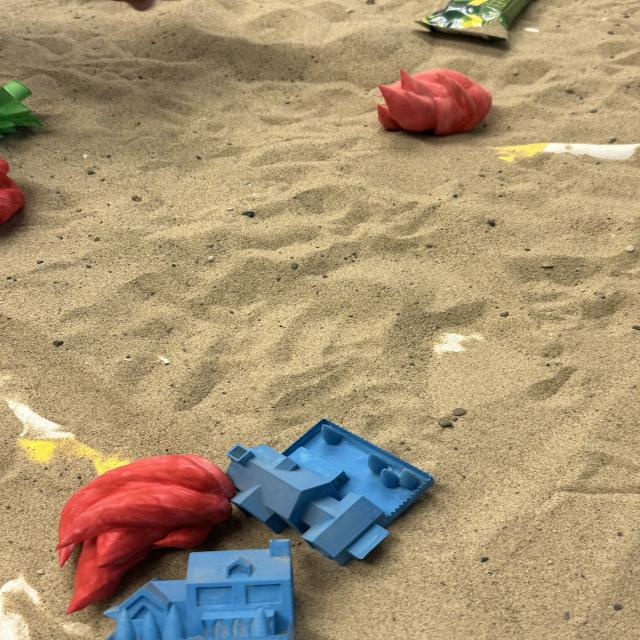fire: (54, 452, 237, 615), (374, 66, 493, 136), (0, 160, 25, 232)
house: (223, 416, 436, 566), (106, 536, 297, 640)
tree: (0, 77, 44, 139)
